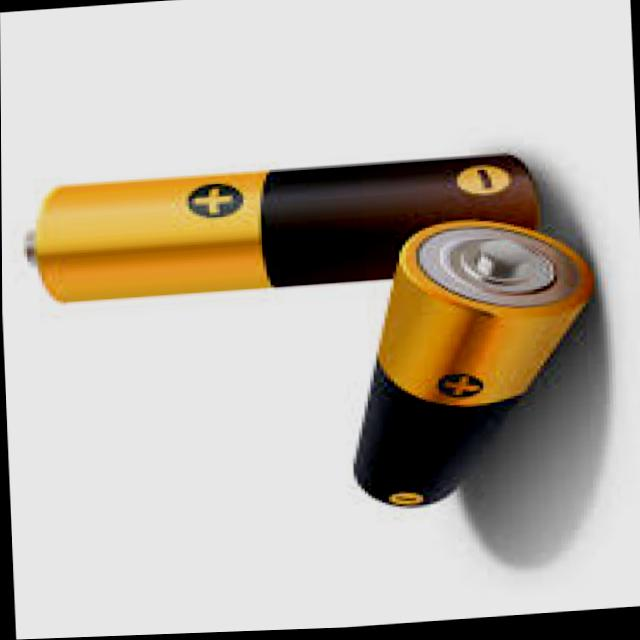B3: (1, 97, 640, 584)
